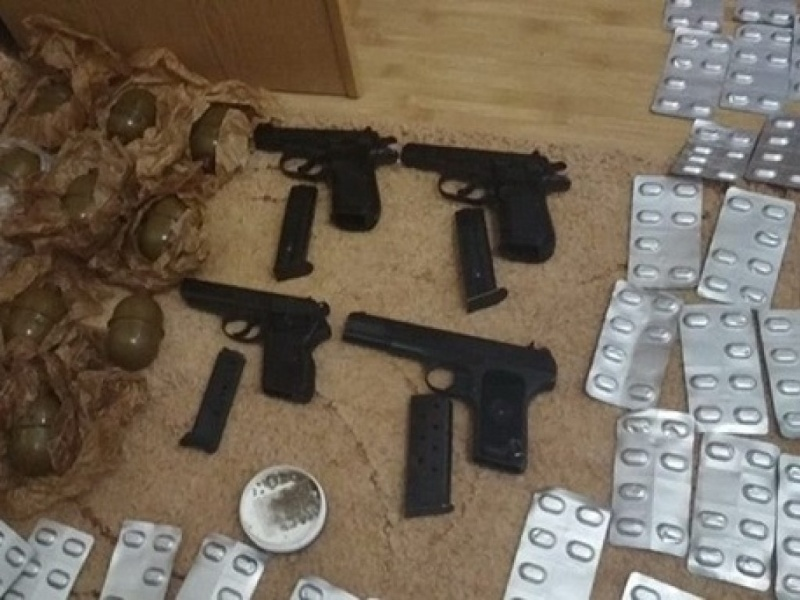weapon: (342, 311, 557, 471), (401, 142, 573, 263), (179, 275, 333, 405), (254, 122, 401, 232)
